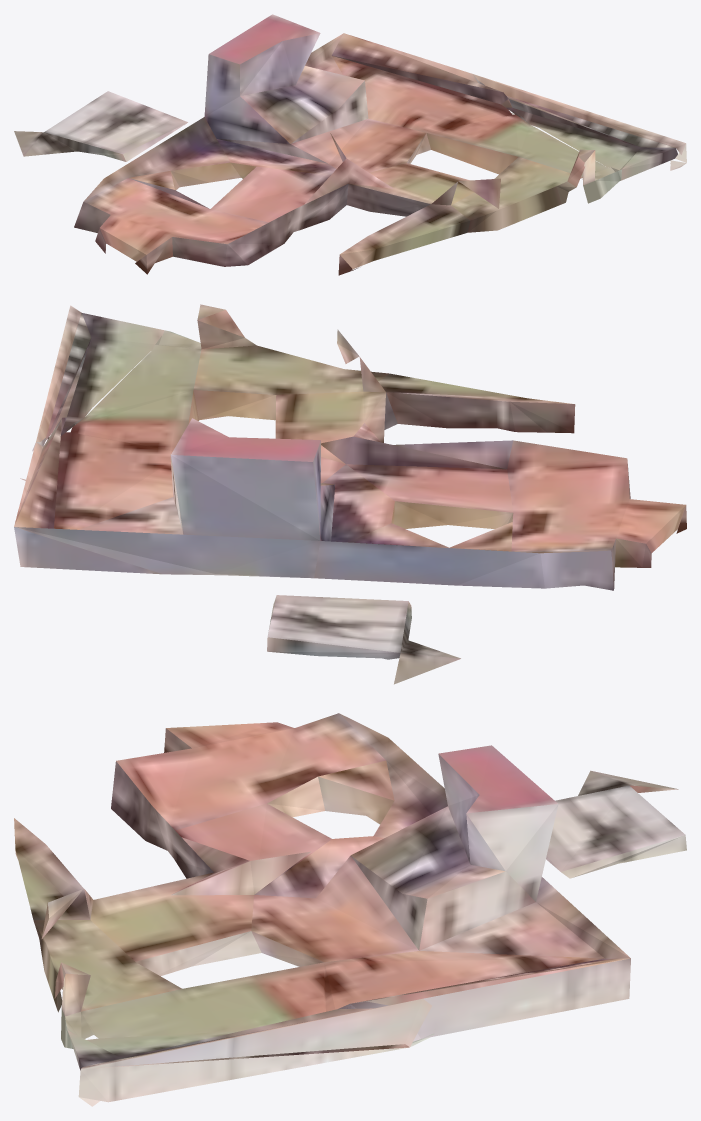
The picture shows the model from 3 angles, top to bottom: view 1: azimuth 30°, elevation 25°; view 2: azimuth 150°, elevation 25°; view 3: azimuth 270°, elevation 25°; orthographic projection. The views are drawn at different scales.
Parts seen in each view (by area): view 1: Mesh_0; view 2: Mesh_0; view 3: Mesh_0.
Boxes of the visible parts, left/top/right/bottom form: Mesh_0: left=14, top=14, right=686, bottom=275; Mesh_0: left=14, top=304, right=686, bottom=684; Mesh_0: left=14, top=713, right=686, bottom=1106.
Bounding box in the file's own units: 35.01 × 6.39 × 27.62.
1 material, 1 textured.
